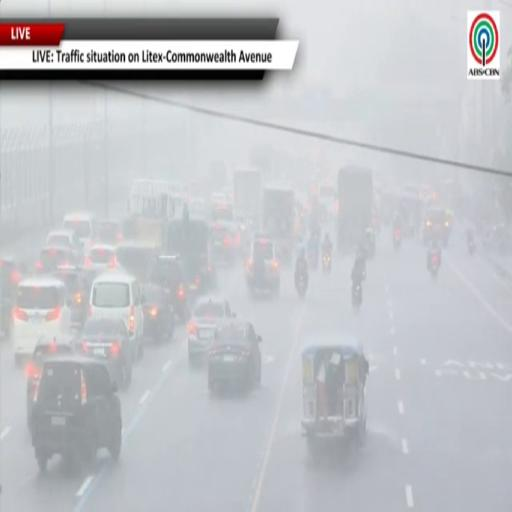car: (31, 355, 122, 472), (12, 276, 70, 364), (89, 272, 143, 359), (26, 336, 75, 429), (208, 319, 261, 391), (80, 318, 133, 389), (188, 296, 235, 363), (150, 255, 190, 322), (53, 266, 89, 327), (0, 256, 26, 339), (245, 235, 280, 294), (143, 284, 175, 342), (116, 240, 157, 282), (210, 221, 240, 265), (63, 212, 97, 250), (36, 246, 79, 273), (46, 229, 82, 259), (423, 208, 450, 245), (84, 244, 117, 270), (98, 219, 122, 245), (210, 199, 233, 221)
jeepney: (302, 335, 368, 449)
motorcycle: (295, 272, 307, 297), (351, 283, 362, 309), (429, 254, 440, 279), (308, 248, 319, 270), (322, 252, 331, 273), (394, 229, 401, 249), (468, 242, 476, 255)
truck: (337, 166, 373, 253), (262, 184, 296, 264), (233, 168, 261, 223), (207, 159, 227, 195)
